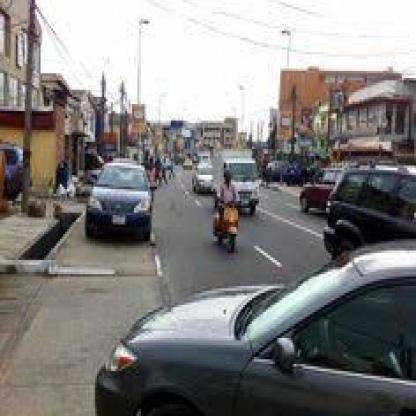car: (79, 231, 416, 416), (311, 129, 416, 272), (90, 152, 166, 250), (210, 124, 273, 224), (290, 145, 364, 216), (182, 142, 220, 204)
